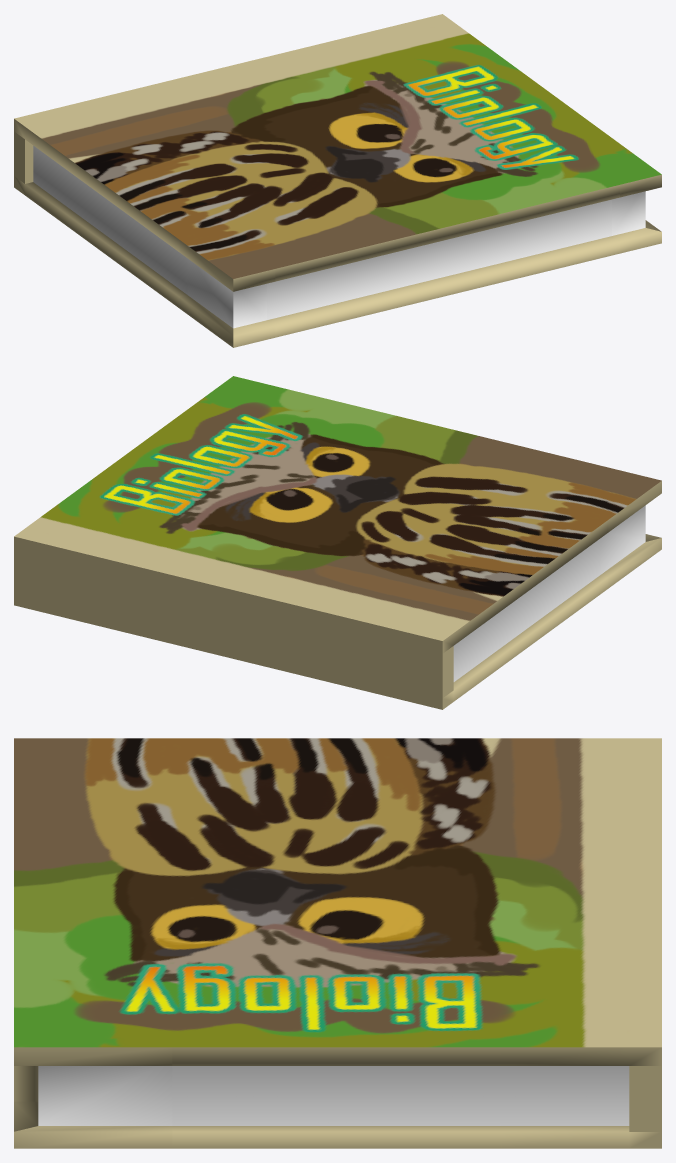
Rendered from textbook.fbx.
The picture shows the model from 3 angles, top to bottom: view 1: azimuth 30°, elevation 25°; view 2: azimuth 150°, elevation 25°; view 3: azimuth 270°, elevation 25°; orthographic projection. The views are drawn at different scales.
Visible parts, largest first — view 1: pPlane3; view 2: pPlane3; view 3: pPlane3.
Part boxes in pixels (x1=…): pPlane3: x1=14, y1=14, x2=661, y2=347; pPlane3: x1=14, y1=376, x2=661, y2=709; pPlane3: x1=14, y1=738, x2=661, y2=1148.
Bounding box in the file's own units: 19.85 × 3.05 × 17.6.
1 material, 1 textured.
